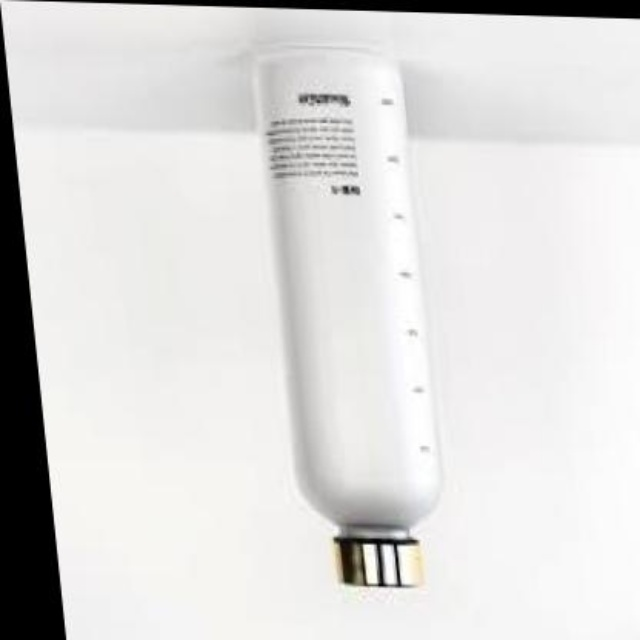trash: (260, 49, 440, 586)
